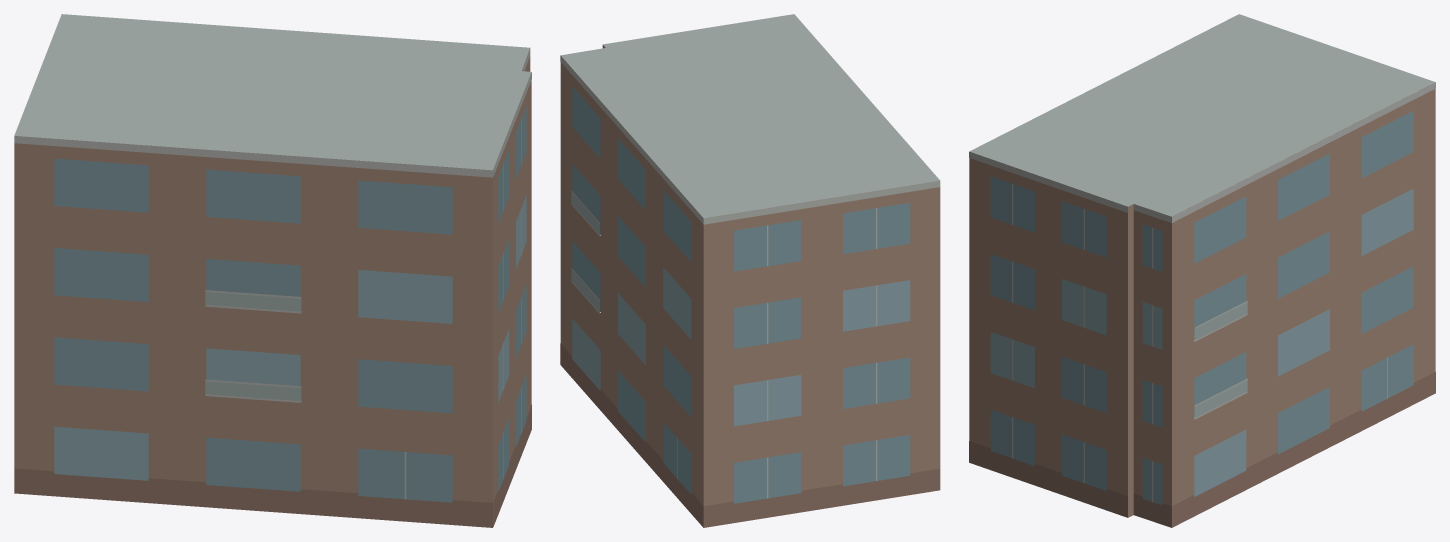
The model's file is survey-upis-32612664.glb.
The picture shows the model from 3 angles, left to right: view 1: azimuth 30°, elevation 25°; view 2: azimuth 150°, elevation 25°; view 3: azimuth 270°, elevation 25°; orthographic projection. The views are drawn at different scales.
Parts seen in each view (by area): view 1: survey-upis-32612664.tmp; view 2: survey-upis-32612664.tmp; view 3: survey-upis-32612664.tmp.
Part boxes in pixels (left/top/right/bottom): survey-upis-32612664.tmp: left=14, top=14, right=531, bottom=527; survey-upis-32612664.tmp: left=560, top=14, right=940, bottom=527; survey-upis-32612664.tmp: left=969, top=14, right=1435, bottom=527.
Bounding box in the file's own units: 16.64 × 11.9 × 16.18.
